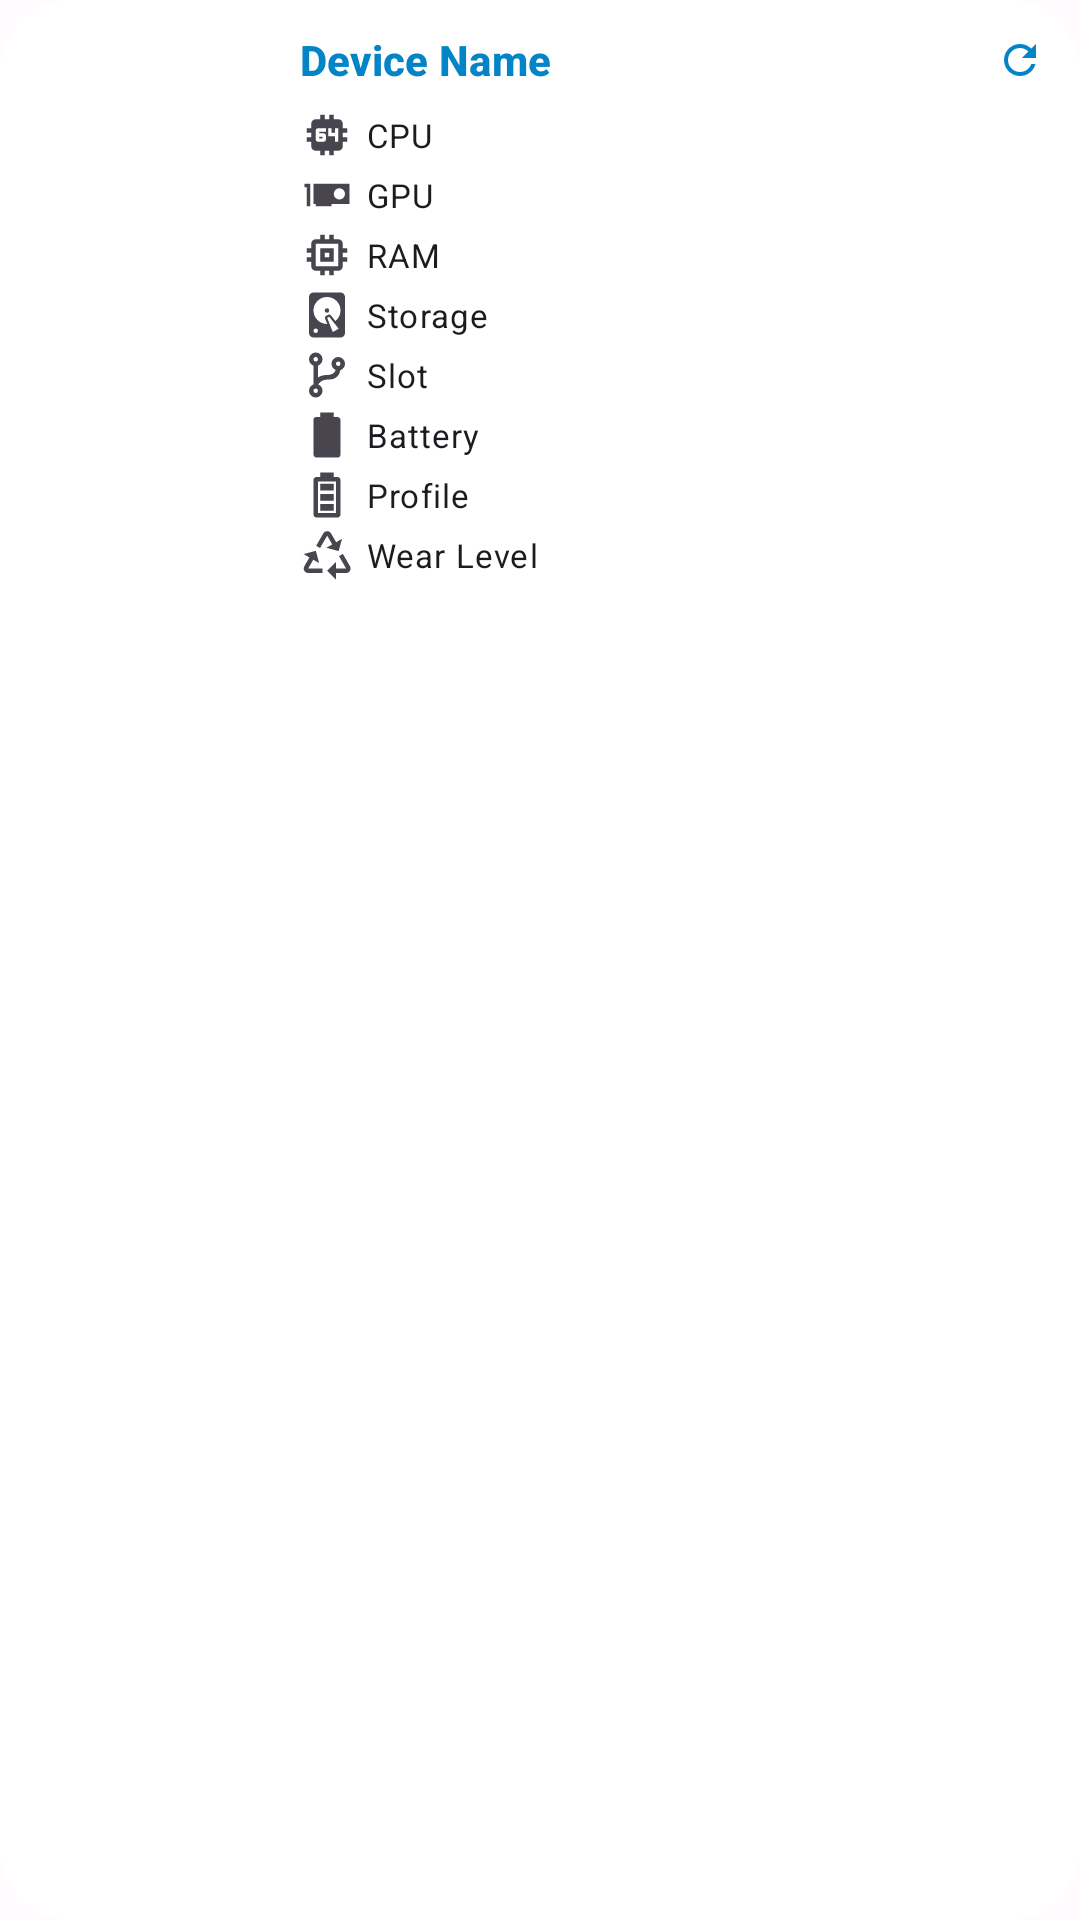

Named icons in this screenshot (1080w x 1920h) and their bounding boxes, {"left": x1, "top": y1, "right": x2, "bottom": y2}:
refresh: {"left": 1004, "top": 44, "right": 1036, "bottom": 76}
